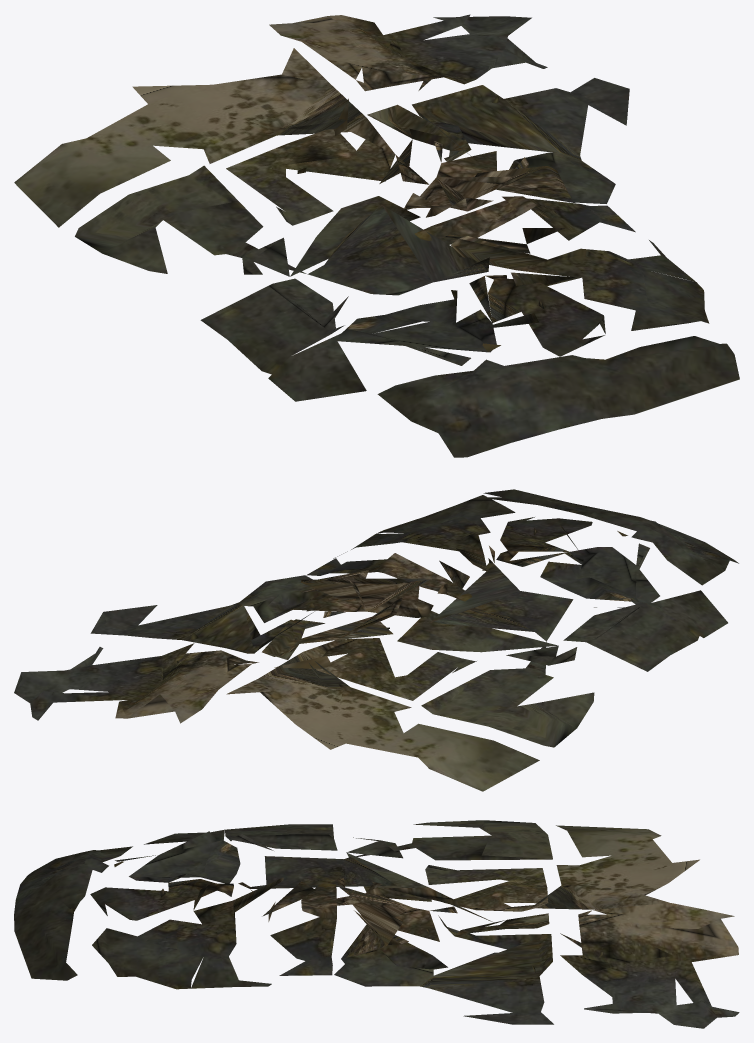
File: jeju_coastal_rock_low.glb
3 renders of one model, top to bottom at view 1: azimuth 30°, elevation 25°; view 2: azimuth 150°, elevation 25°; view 3: azimuth 270°, elevation 25°, orthographic. The views are drawn at different scales.
Size of the model in its own units: 0.7165 by 0.0955 by 1.
Materials: 1 (1 with a texture image).
